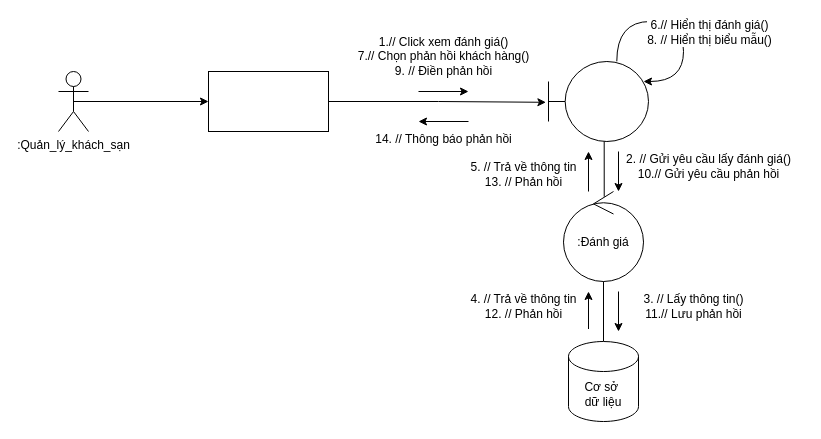
The diagram is 821 pixels wide and 439 high, and some of its shapes have lost their labels. Each missing label, with the box of its shape:
: G i ao diện đán h giá: (548, 60, 648, 142)
<<ref>> Xem thông tin phòng: (208, 70, 328, 132)
